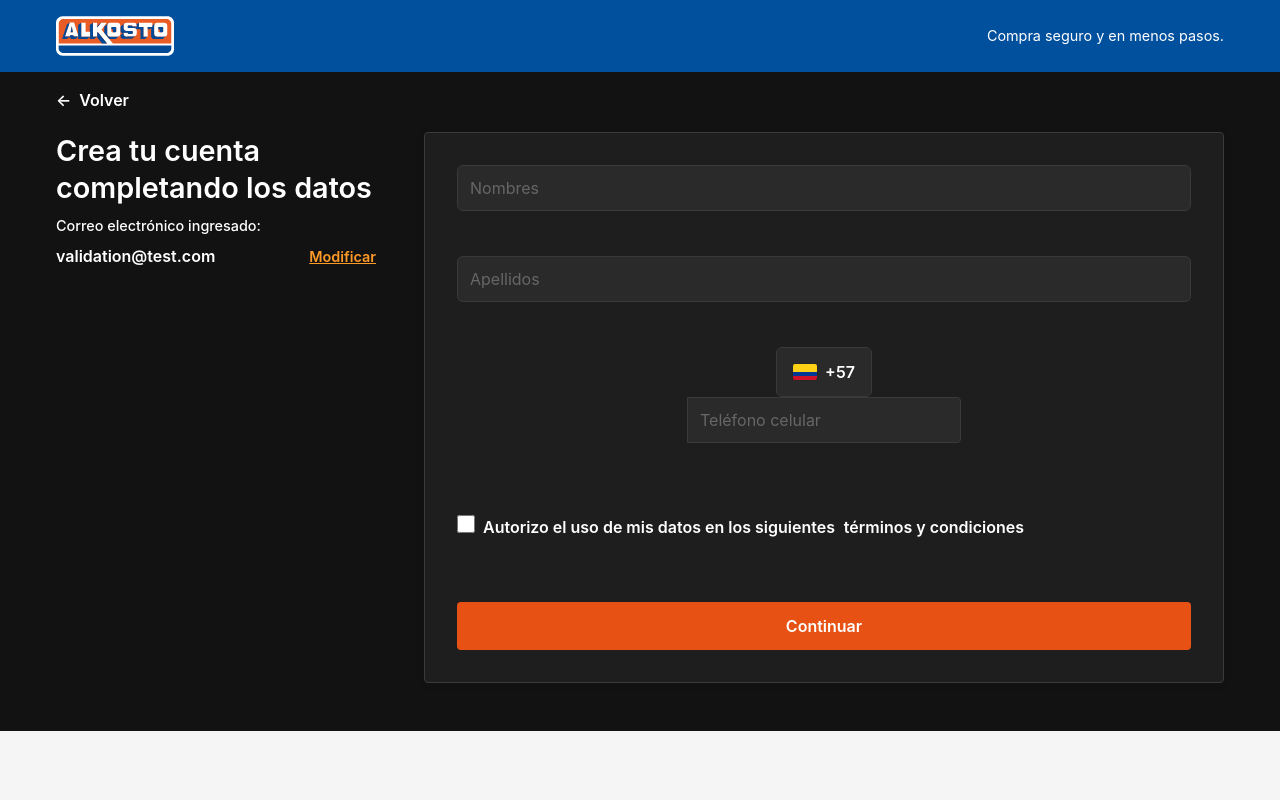
RF01 - REGISTRAR USUARIO - Pruebas E2E Completas › 2. Validaciones de Campos Requeridos › 2.4 Muestra error cuando no acepta términos y condiciones
Type "Nombre" into the field named "firstName" at (824, 188), box top-left (457, 165), bottom-right (1191, 211)
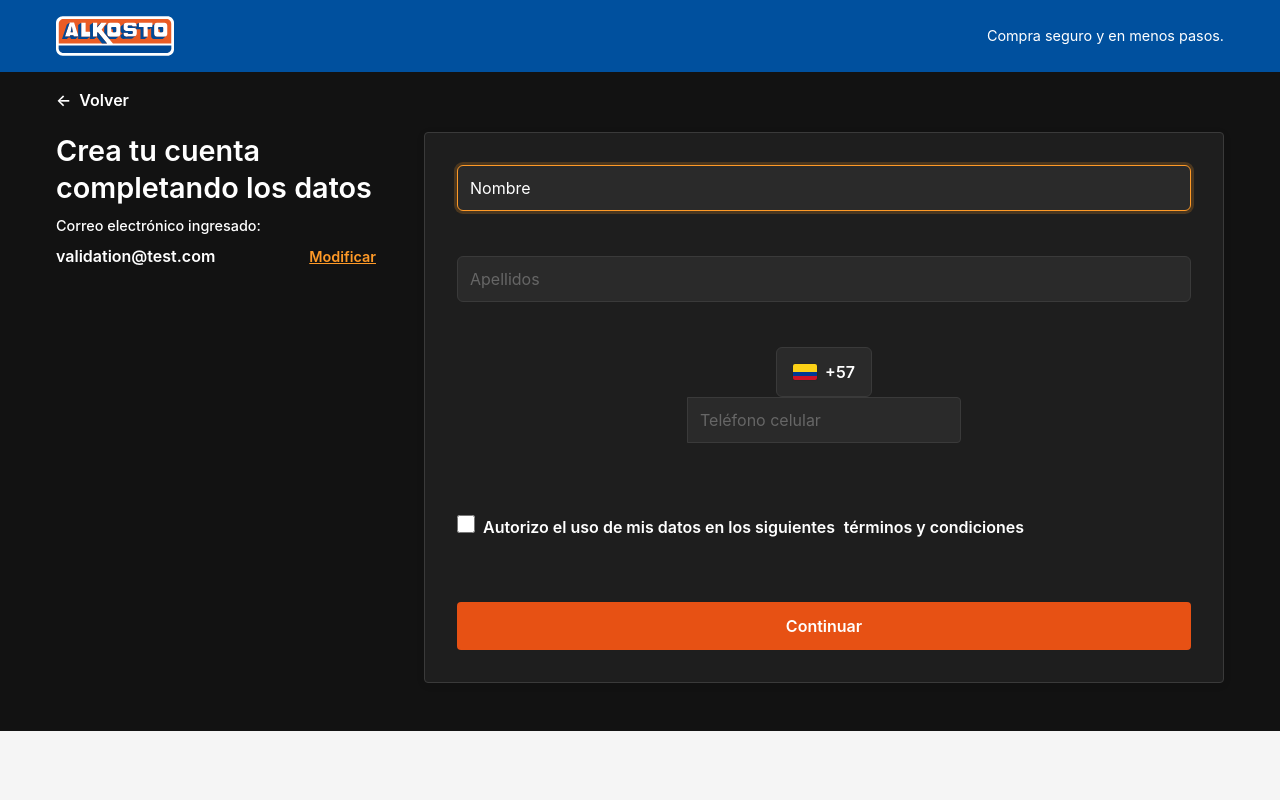
Type "Apellido" into the field named "lastName" at (824, 279), box top-left (457, 256), bottom-right (1191, 302)
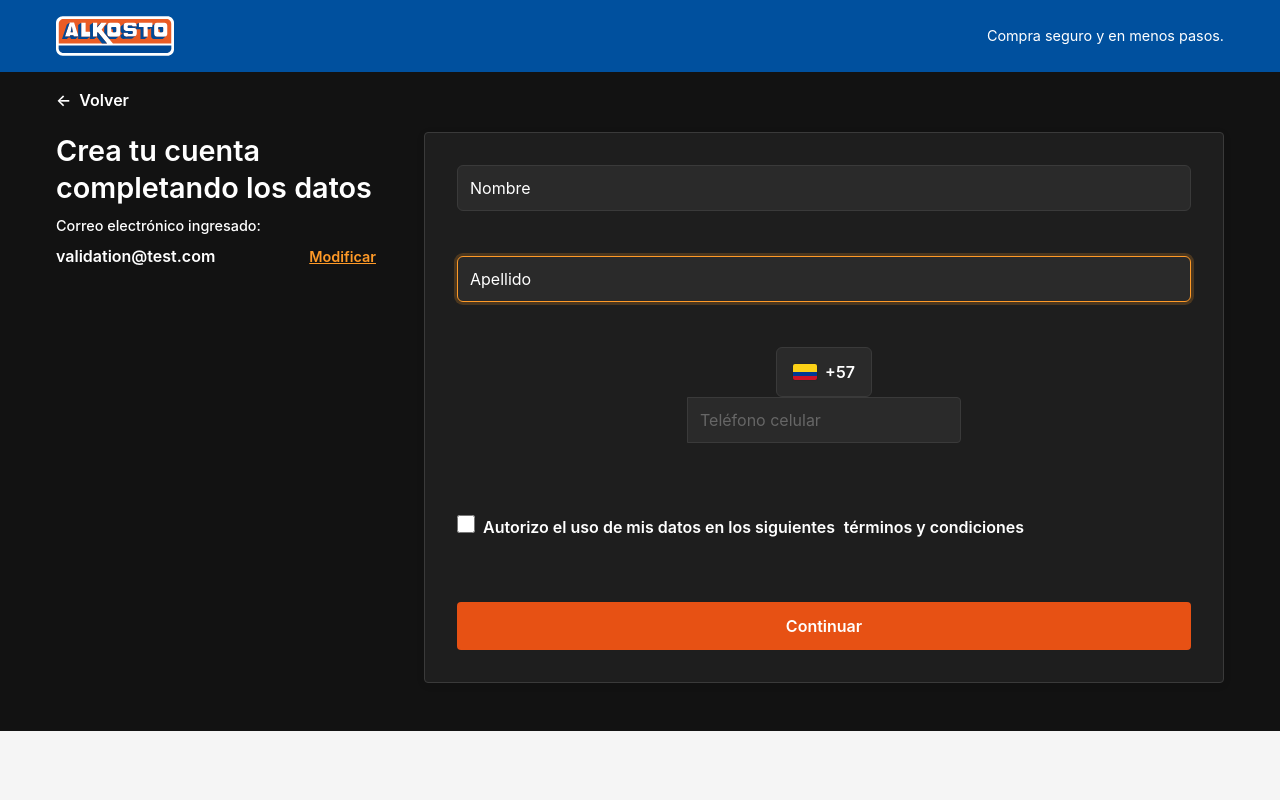
Type "3001234567" into the field named "phone" at (824, 420), box top-left (687, 397), bottom-right (961, 443)
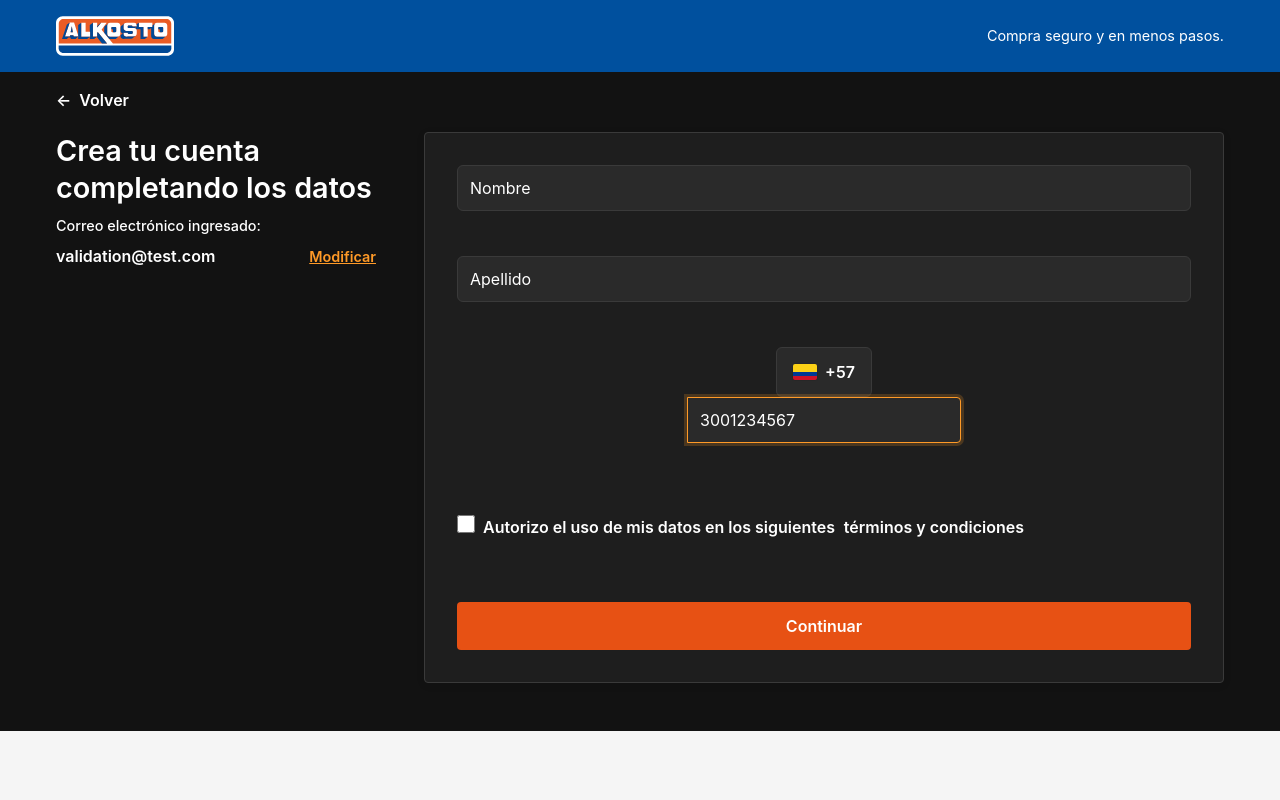
Click the button with class "continue-button" at (824, 626), box top-left (457, 602), bottom-right (1191, 650)
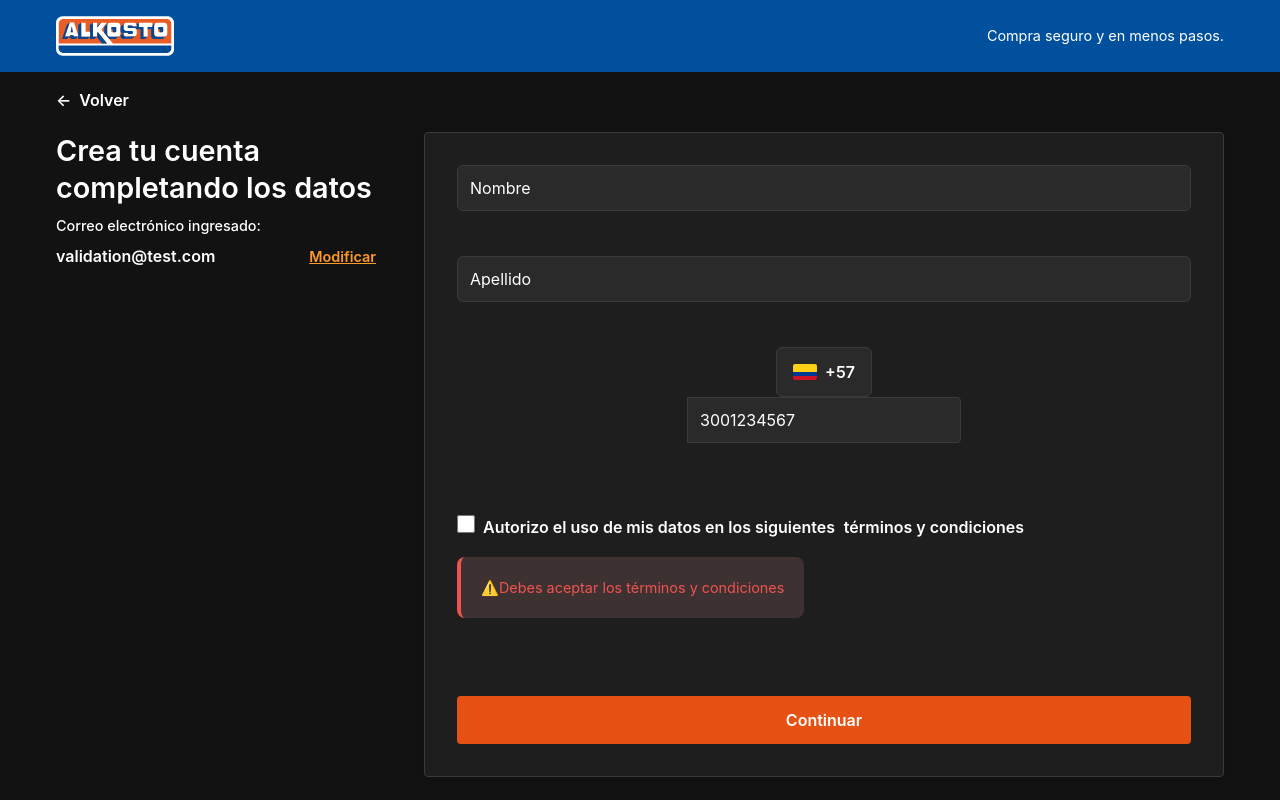
Now the text "Debes aceptar los términos y condiciones" is shown, box top-left (457, 557), bottom-right (804, 618)
